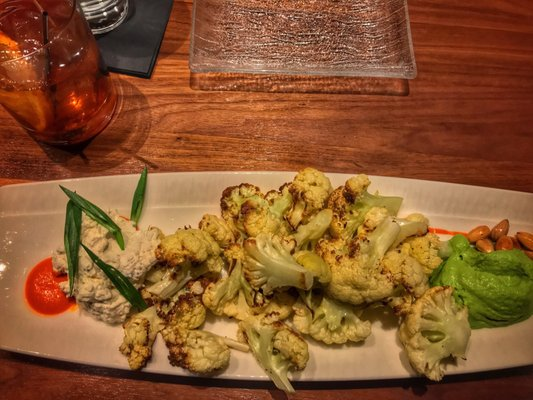curry: (428, 235, 533, 328)
